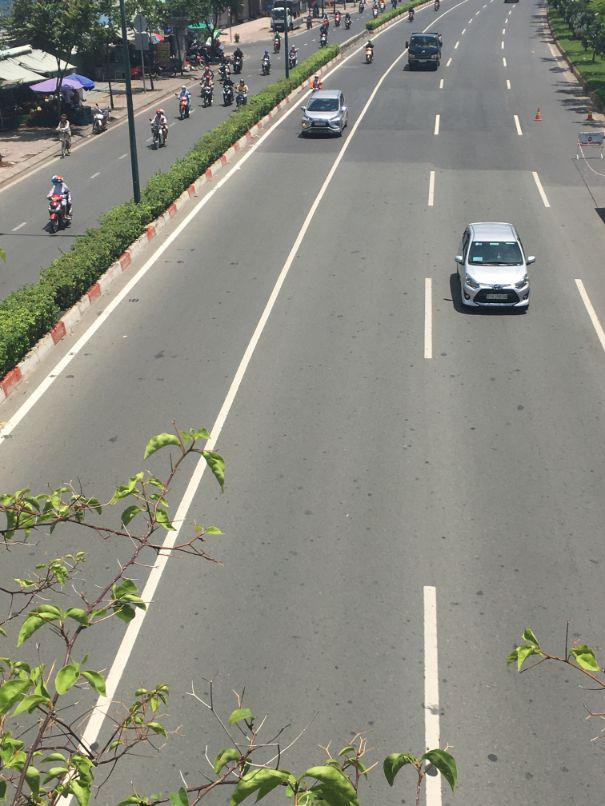car: (451, 222, 534, 314), (300, 91, 346, 139)
motorbike: (44, 184, 73, 234), (151, 109, 167, 147), (179, 90, 191, 120)
truck: (406, 35, 441, 74)
